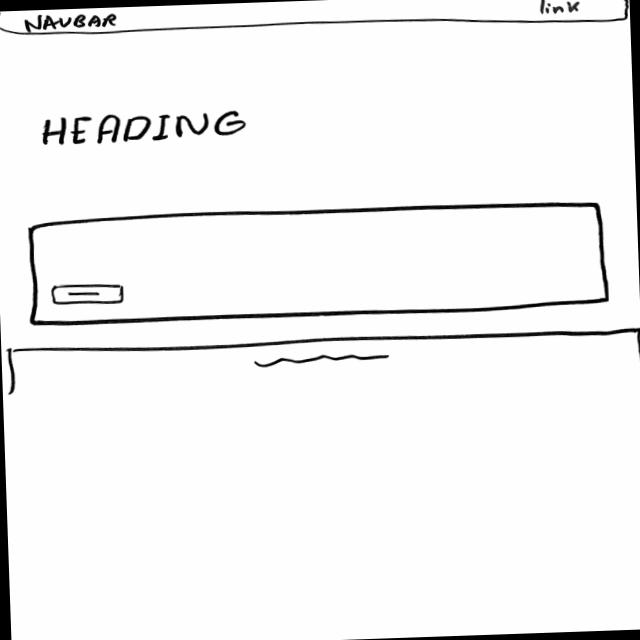container: (24, 198, 611, 328), (0, 0, 629, 42)
icon-button: (50, 282, 127, 305)
label: (38, 108, 248, 146), (19, 12, 118, 31), (533, 0, 581, 15)
text: (254, 350, 394, 370)
